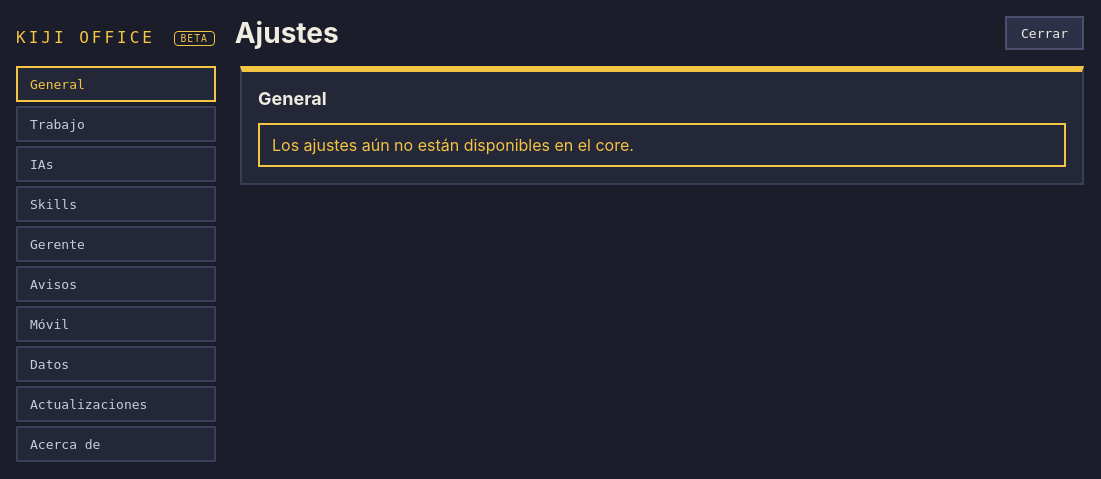
SettingsScreen › sin settings.all en el core: aviso «aún no disponible», sin romper
The width and height of the screenshot is (1101, 479).
Expected: the message shows "aún no están disponibles", top-left (272, 135), bottom-right (634, 155)
Click the button "Gerente": point(116, 244) top-left (16, 226), bottom-right (216, 262)
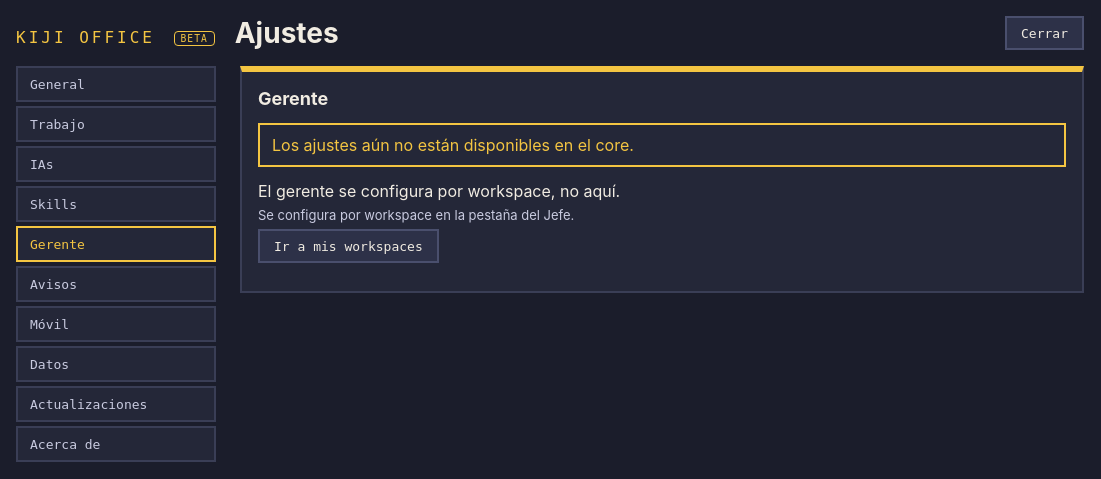
Expected: the text "Se configura por workspace en la pestaña del Jefe." is shown, top-left (258, 207), bottom-right (574, 223)
